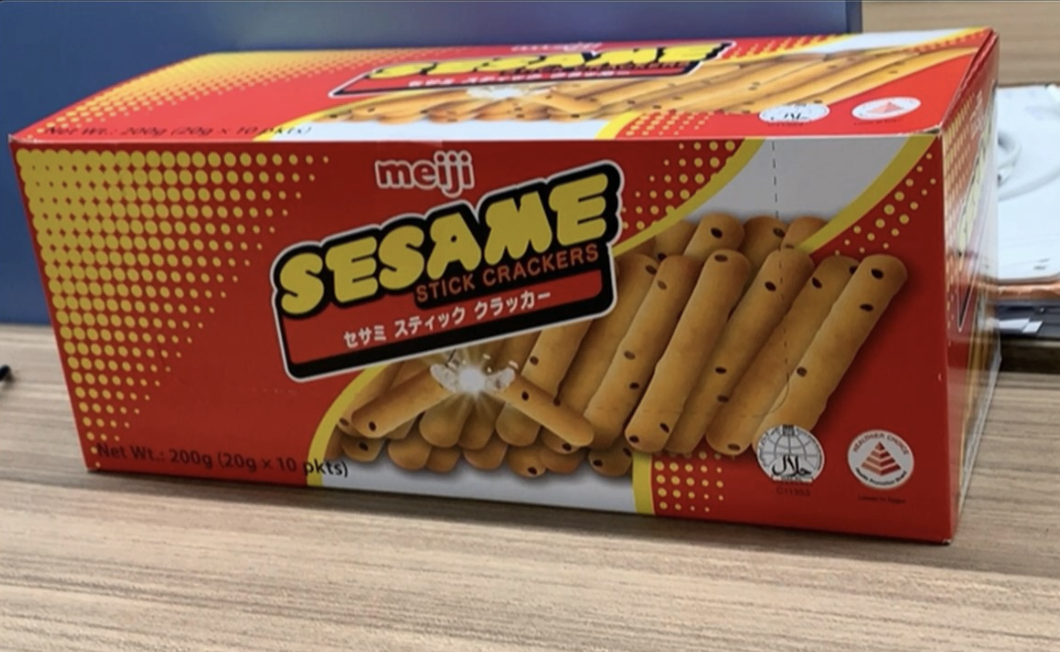crackers_150g: (73, 136, 927, 510)
